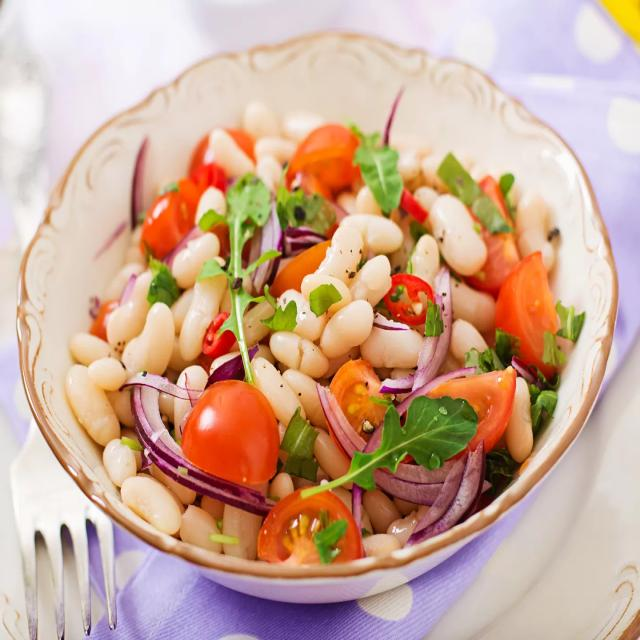garbanzos: (67, 280, 165, 420)
